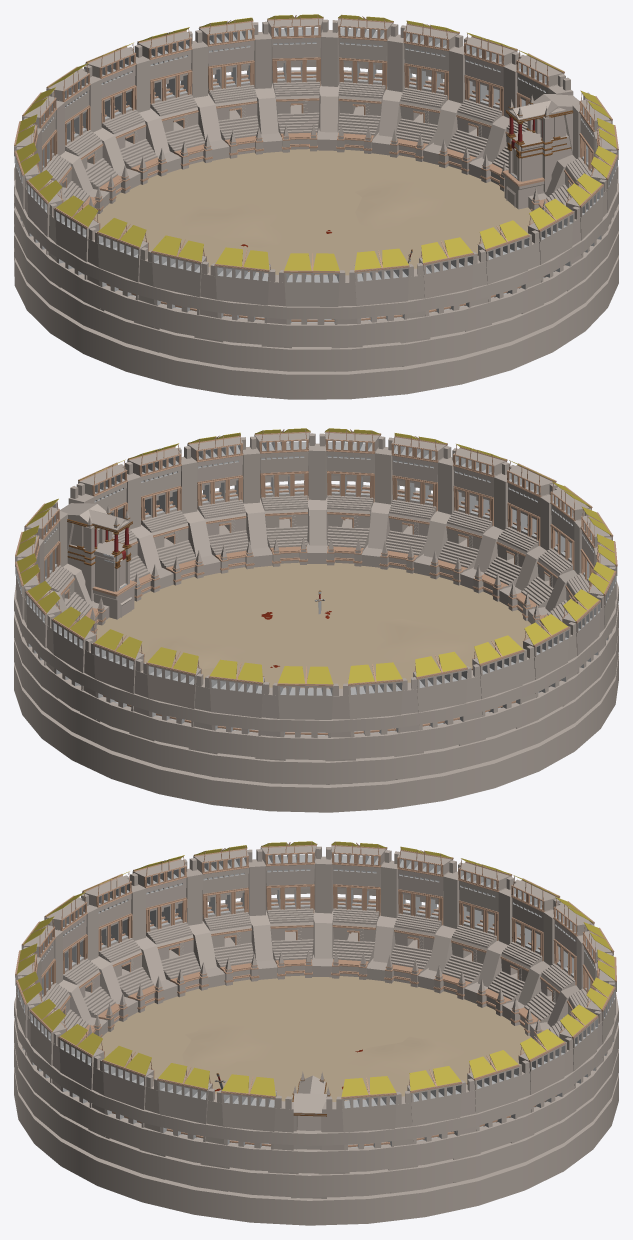
File: perfect arena.fbx
The picture shows the model from 3 angles, top to bottom: view 1: azimuth 30°, elevation 25°; view 2: azimuth 150°, elevation 25°; view 3: azimuth 270°, elevation 25°; orthographic projection.
Visible parts, largest first — view 1: polySurface44; view 2: polySurface44; view 3: polySurface44.
Boxes of the visible parts, x1,y1,x2,y2 form: polySurface44: (14,14,618,399); polySurface44: (14,428,618,812); polySurface44: (14,841,618,1225).
Size of the model in its own units: 5938 by 1488 by 5938.
